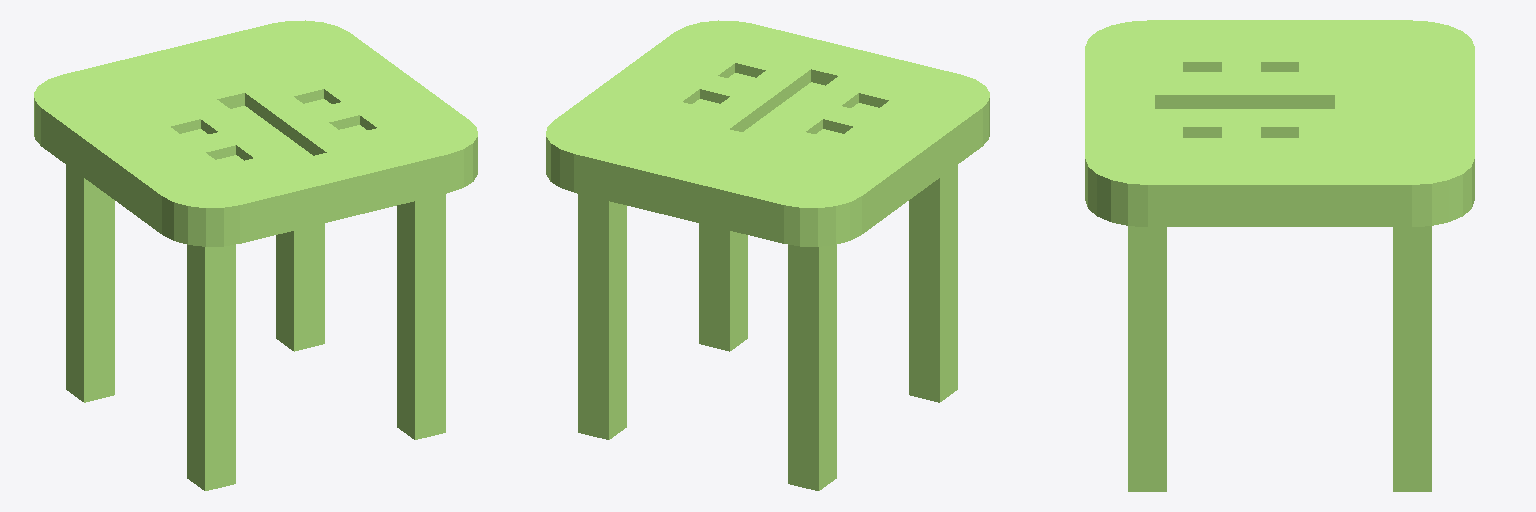
The robot description file, URDF, robot "ban":
<?xml version="1.0" encoding="utf-8"?>
<!-- This URDF was automatically created by SolidWorks to URDF Exporter! Originally created by [author] ([email redacted]) 
     Commit Version: 1.5.1-0-g916b5db  Build Version: 1.5.7152.31018
     For more information, please see http://wiki.ros.org/sw_urdf_exporter -->
<robot
  name="ban">
  <link
    name="zhuozi">
    <inertial>
      <origin
        xyz="7.4003E-18 0.00091818 -0.020647"
        rpy="0 0 0" />
      <mass
        value="9" />
      <inertia
        ixx="0.63116"
        ixy="1.004E-17"
        ixz="-3.3005E-18"
        iyy="0.63172"
        iyz="0.0012067"
        izz="0.8185" />
    </inertial>
    <visual>
      <origin
        xyz="0 0 0"
        rpy="0 0 0" />
      <geometry>
        <mesh
          filename="package://zhuozi/meshes/zhuozi.STL" />
      </geometry>
      <material
        name="">
        <color
          rgba="0.78824 1 0.57255 1" />
        <texture
          filename="package://zhuozi/textures/" />
      </material>
    </visual>
    <collision>
      <origin
        xyz="0 0 0"
        rpy="0 0 0" />
      <geometry>
        <mesh
          filename="package://zhuozi/meshes/zhuozi.STL" />
      </geometry>
    </collision>
  </link>
</robot>

--- Render facts (derived) ---
The picture shows the robot from 3 angles, left to right: view 1: azimuth 30°, elevation 25°; view 2: azimuth 150°, elevation 25°; view 3: azimuth 270°, elevation 25°; orthographic projection.
Robot: ban — 1 links, 0 joints (none); root link zhuozi; default pose: every joint at zero.
Visible links, largest first — view 1: zhuozi; view 2: zhuozi; view 3: zhuozi.
Boxes of the visible links, box(x1,y1,x2,y2) form: zhuozi: box(34, 20, 477, 490); zhuozi: box(546, 20, 989, 490); zhuozi: box(1085, 20, 1474, 491).
Bounding box of the posed robot: 0.5 × 0.5 × 0.46 m (x, y, z).
1 mesh visuals loaded from 1 distinct referenced files (1 binary STL).